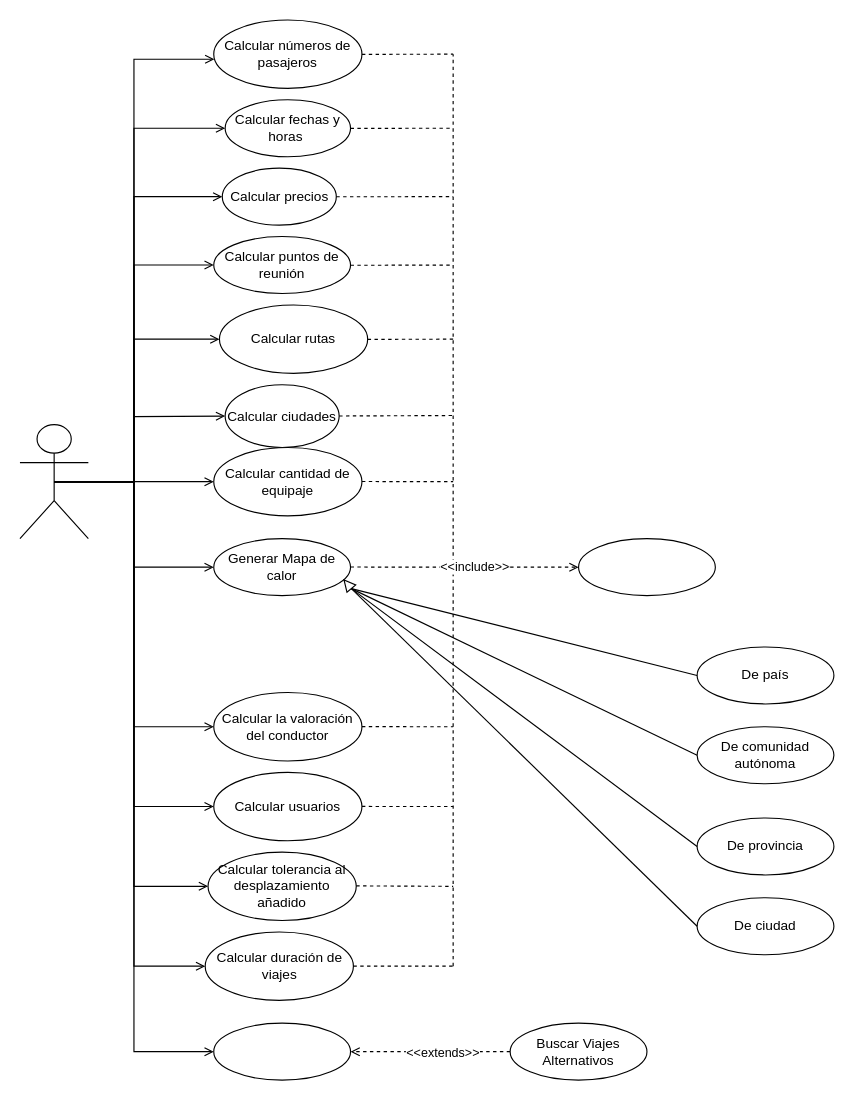
This 854x1100 diagram has some shape labels left out. The shapes that lost their labels are listed below. From the top down, each one's centre as x and y in pixels, then its label:
At point (53, 481): "Usuario".
At point (646, 567): "Presentar Estadisticas".
At point (282, 1051): "Buscar viaje".
